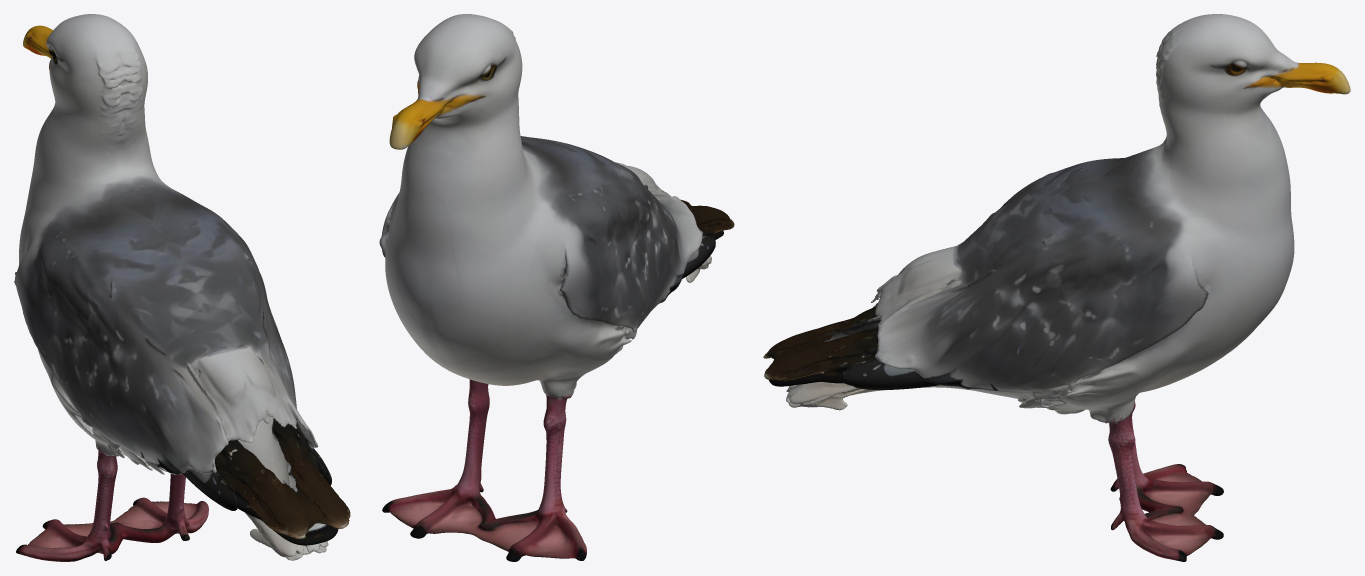
Rendered from herring_gull.glb.
The picture shows the model from 3 angles, left to right: view 1: azimuth 30°, elevation 25°; view 2: azimuth 150°, elevation 25°; view 3: azimuth 270°, elevation 25°; orthographic projection. The views are drawn at different scales.
Visible parts, largest first — view 1: tripo_node_8c63e174-3c66-42fe-9df2-bc3ce4062458; view 2: tripo_node_8c63e174-3c66-42fe-9df2-bc3ce4062458; view 3: tripo_node_8c63e174-3c66-42fe-9df2-bc3ce4062458.
Boxes of the visible parts, bbox=[...] form: tripo_node_8c63e174-3c66-42fe-9df2-bc3ce4062458: bbox=[14, 14, 350, 561]; tripo_node_8c63e174-3c66-42fe-9df2-bc3ce4062458: bbox=[379, 14, 734, 561]; tripo_node_8c63e174-3c66-42fe-9df2-bc3ce4062458: bbox=[763, 14, 1350, 561].
Bounding box in the file's own units: 0.3744 × 0.9429 × 1.
Materials: 1 (1 with a texture image).
